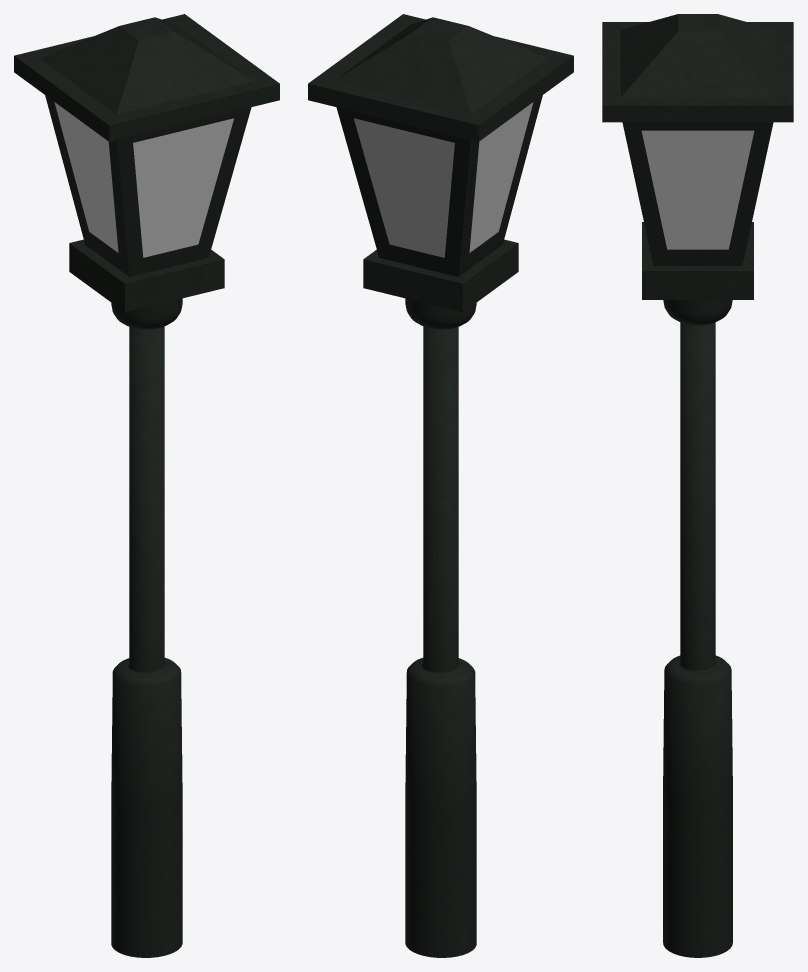
The model's file is street lamp.fbx.
3 renders of one model, left to right at view 1: azimuth 30°, elevation 25°; view 2: azimuth 150°, elevation 25°; view 3: azimuth 270°, elevation 25°, orthographic.
Visible parts, largest first — view 1: street lamp; view 2: street lamp; view 3: street lamp.
Part boxes in pixels (x1,y1,x2,y2): street lamp: [14, 14, 279, 957]; street lamp: [308, 14, 573, 957]; street lamp: [602, 14, 793, 957].
Bounding box in the file's own units: 0.7844 × 4.01 × 0.757.
2 materials, 2 textured.
